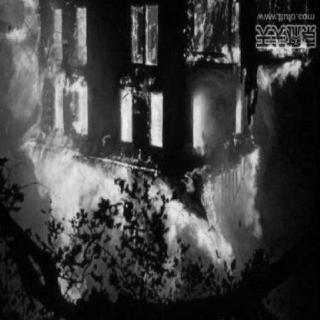Fire: (17, 6, 307, 304)
